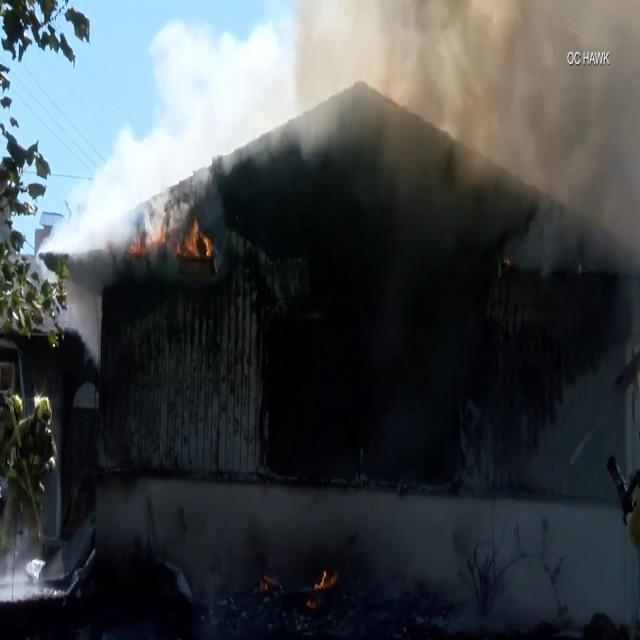Fire: (182, 217, 214, 265)
Smoke: (212, 0, 640, 480)
